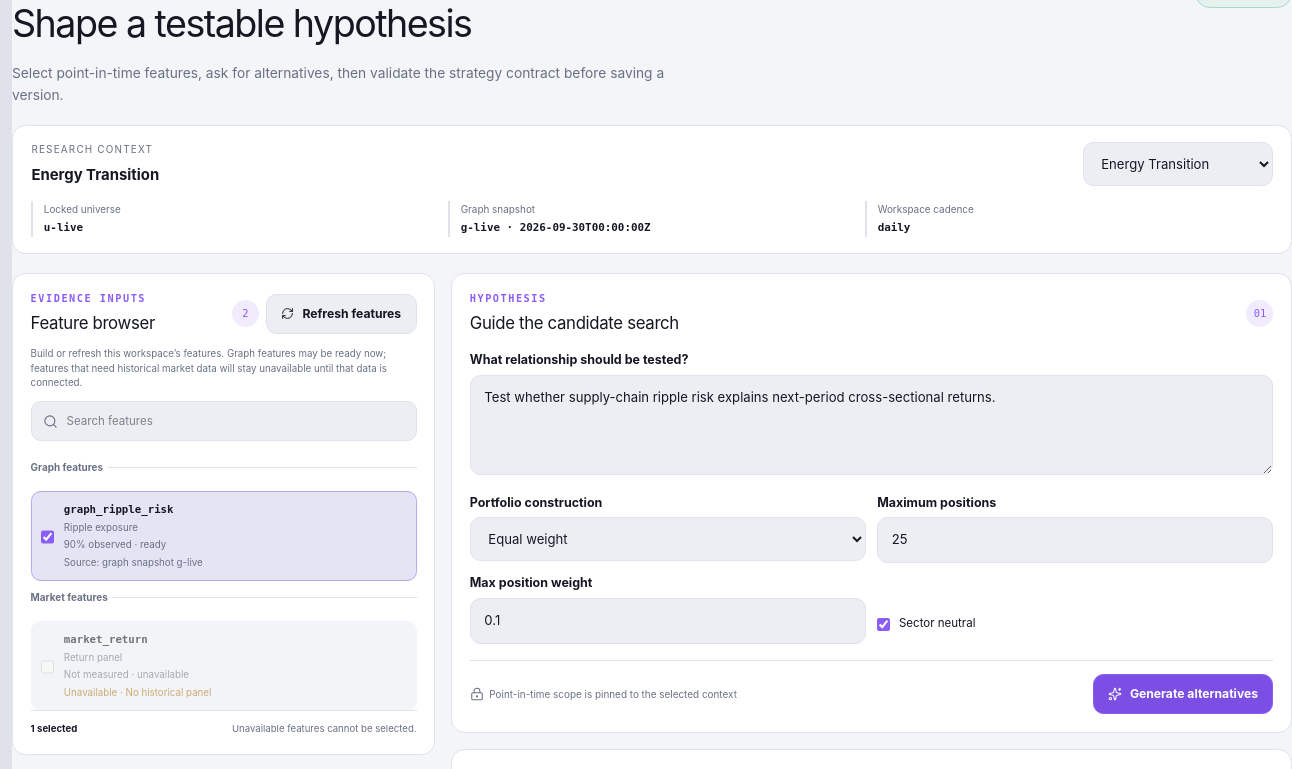
Test case: compares candidates, edits DSL, validates, saves and reads version history
This screenshot has width=1292, height=769.
Click the button "Generate alternatives": (1183, 694) [1092, 674, 1273, 714]
(page scrolled)
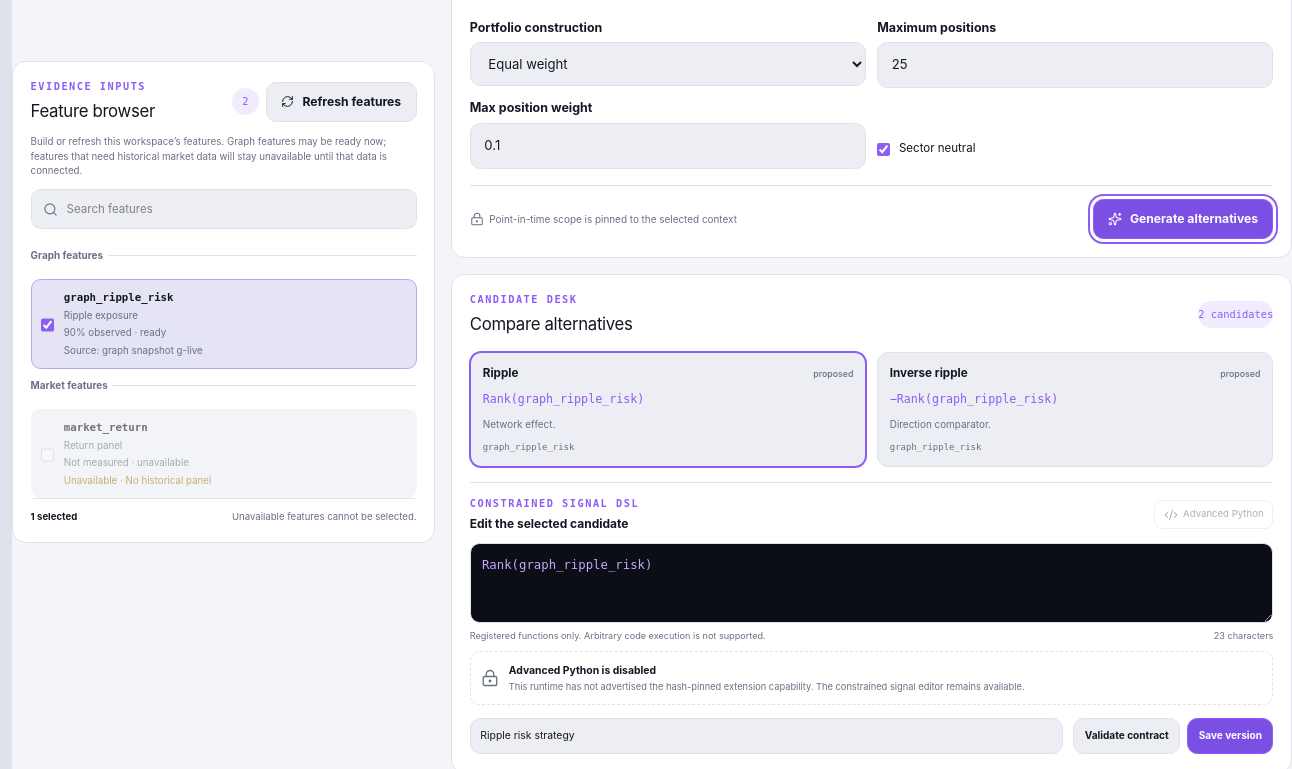
Check: the button "Inverse ripple" is shown
Click the button "Inverse ripple": (929, 373) [877, 352, 1273, 468]
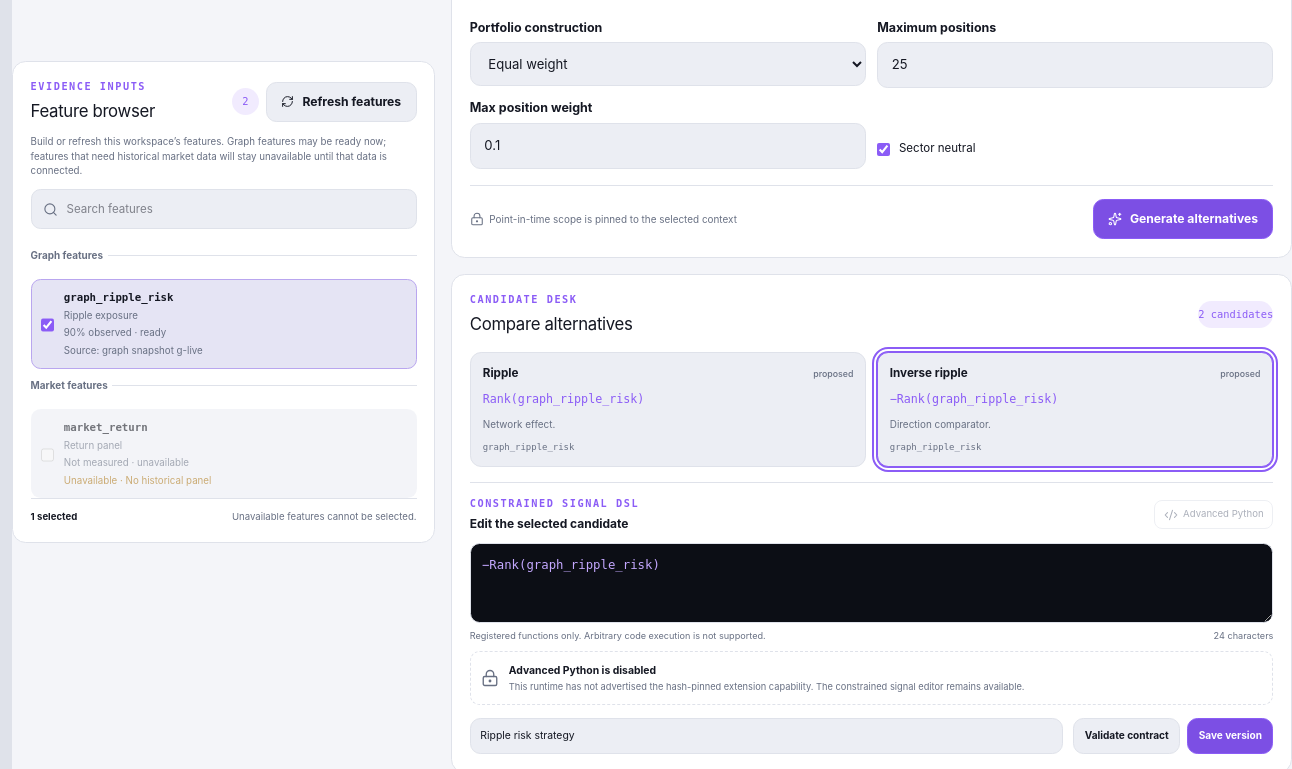
Check: the text box named "Strategy expression" holds "−Rank(graph_ripple_risk)"
Replace the text in the text box named "Strategy expression" with "Rank(graph_ripple_risk)": (872, 583) [470, 543, 1273, 623]
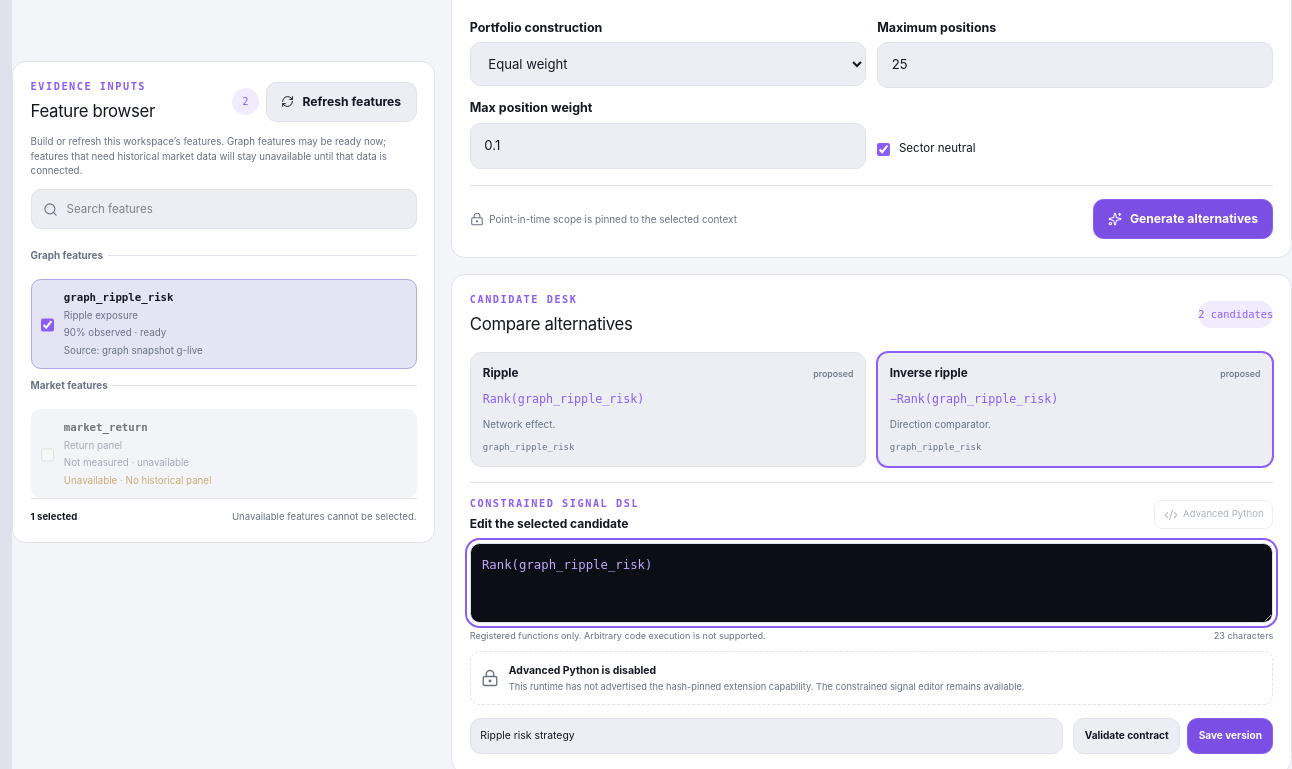
Click the button "Validate contract": (1127, 736) [1073, 718, 1180, 754]
(page scrolled)
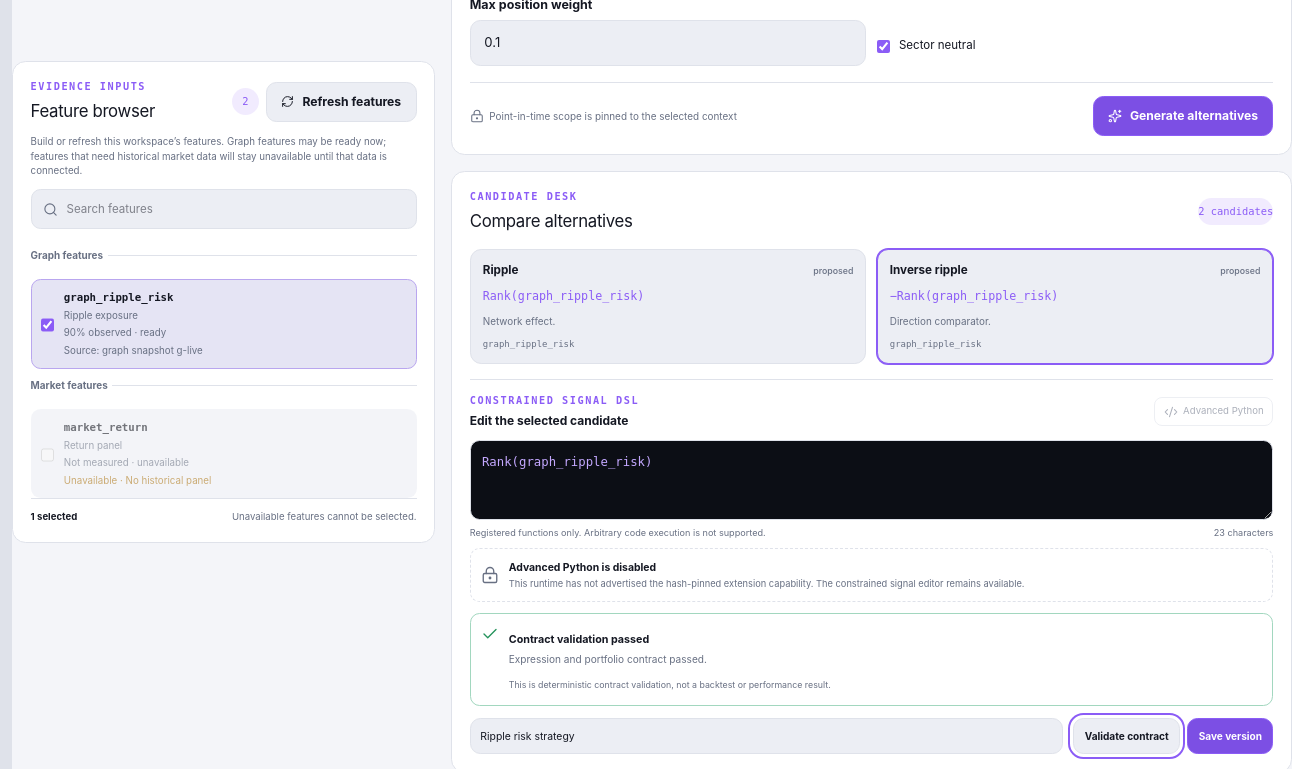
Check: the text "Contract validation passed" is shown, box [509, 633, 649, 646]
Check: the text "not a backtest" is shown, box [509, 679, 831, 690]
Click the button "Save version": (1230, 736) [1187, 718, 1273, 754]
(page scrolled)
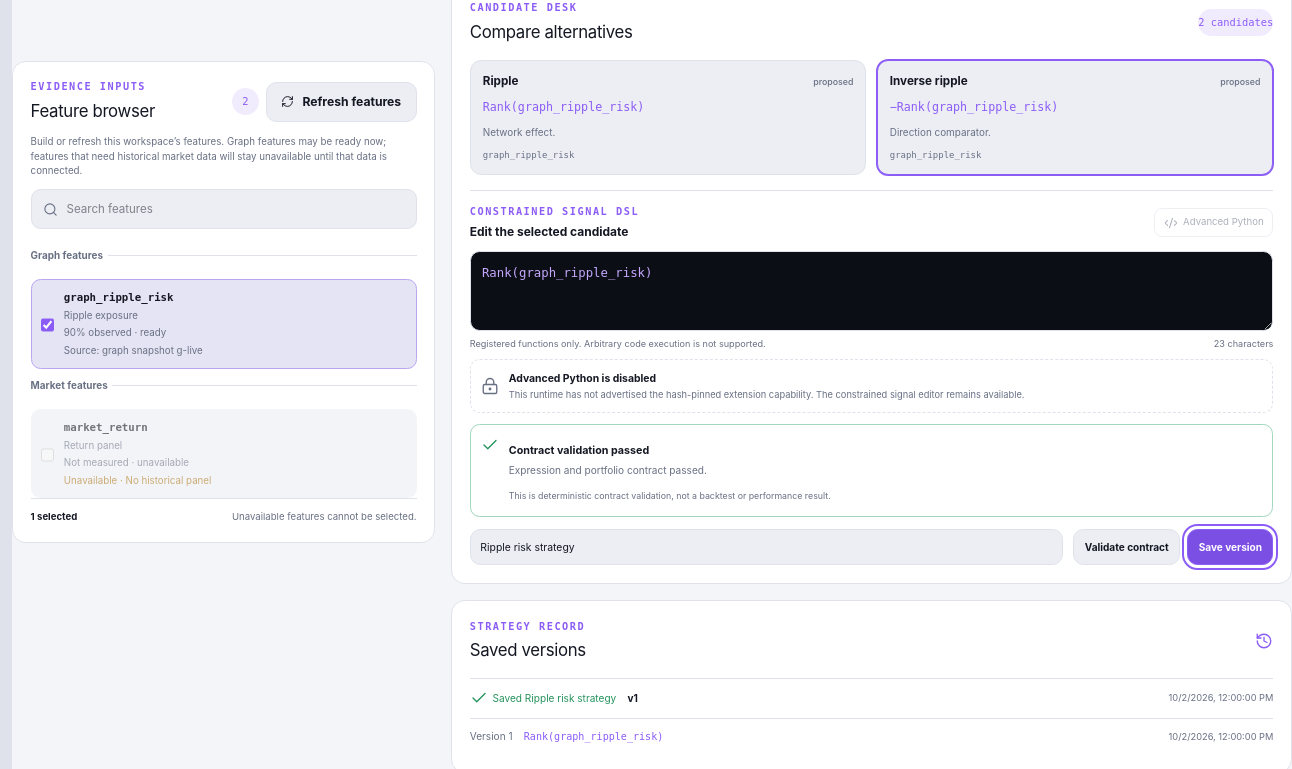
Check: the heading "Saved versions" is shown, box [470, 638, 586, 664]
Check: the button "Version 1 Rank(graph_ripple_risk) 10/2/2026, 12:00:00 PM" is shown, box [470, 718, 1273, 755]
